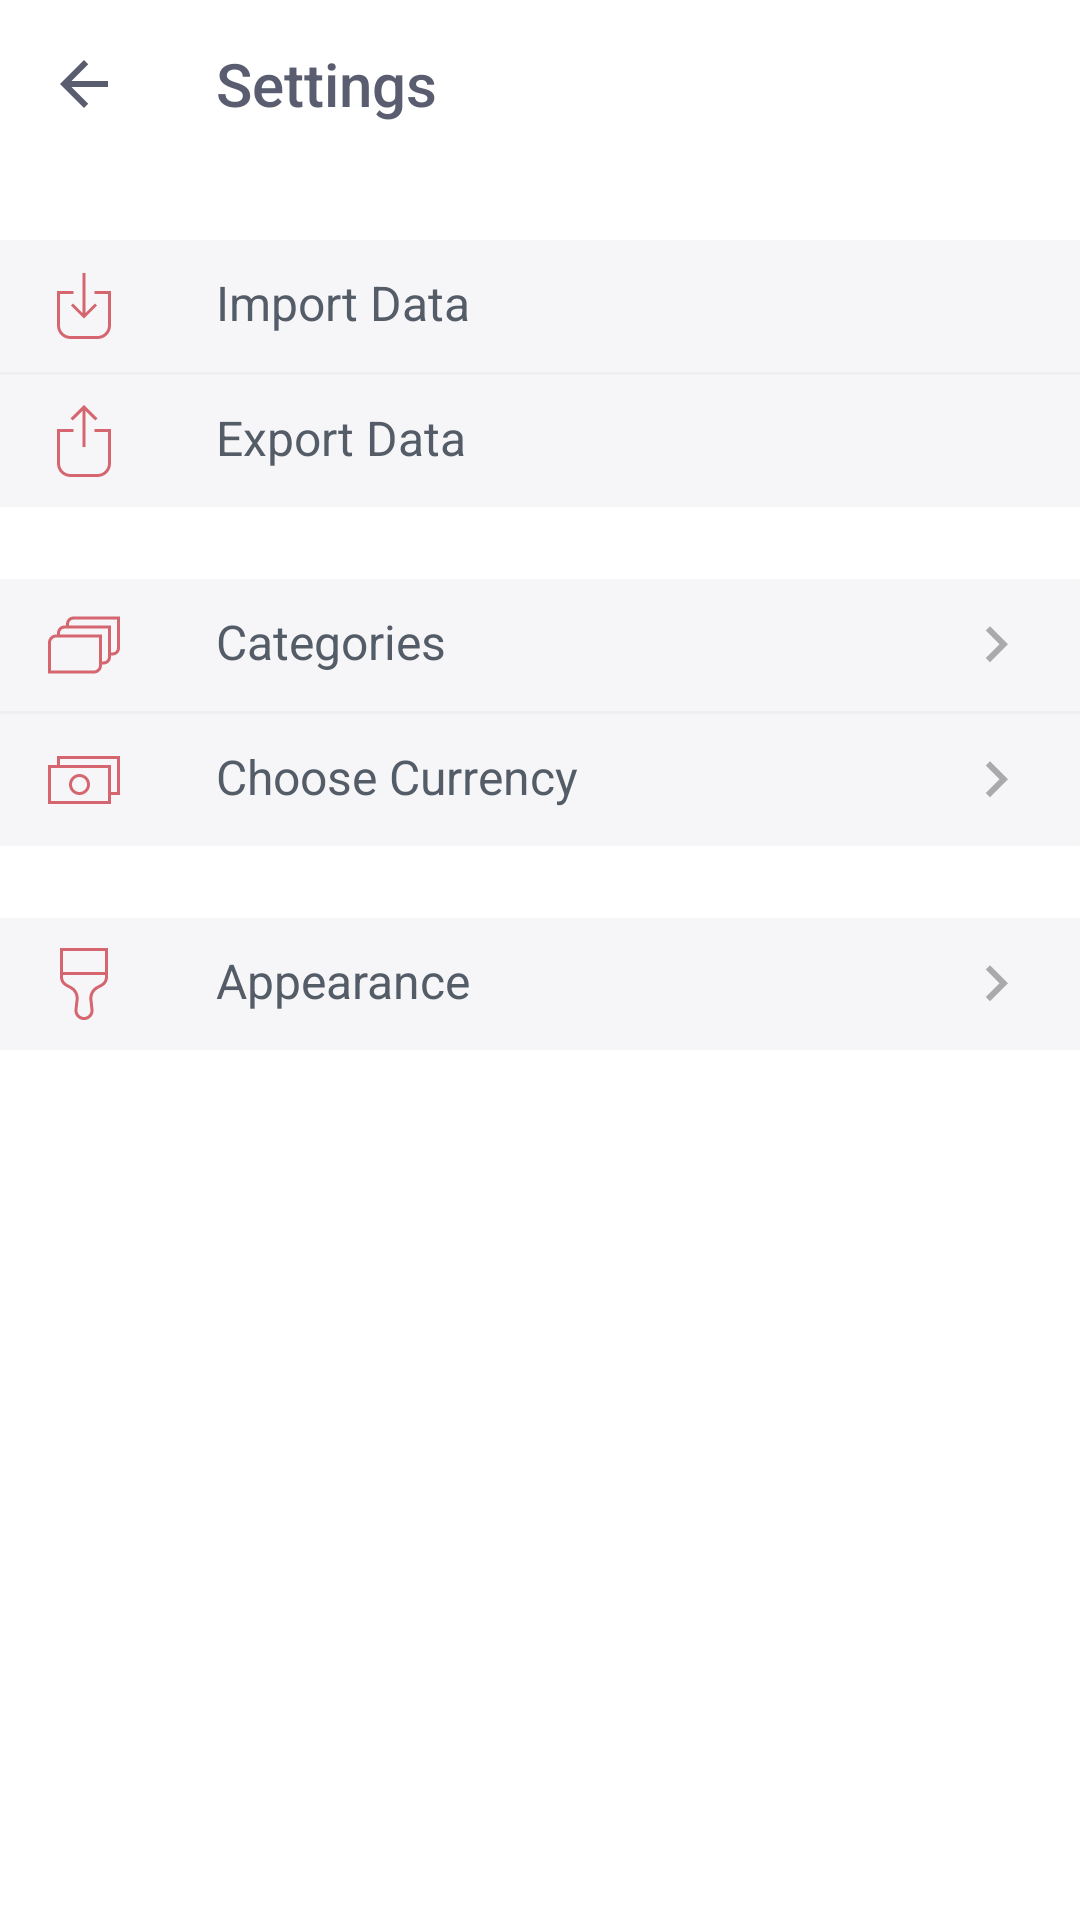

Icon click points for this 1080px×1920px phone screenshot, format (x,y):
arrow back: (84,84)
currencies: (84,780)
keyboard arrow right: (997,644), (997,779), (997,983)
